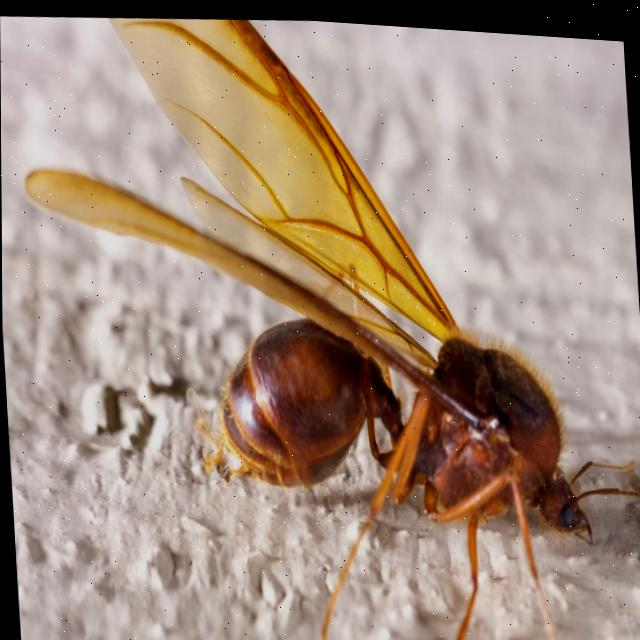Alive-Male-Alate: (13, 1, 640, 640)
